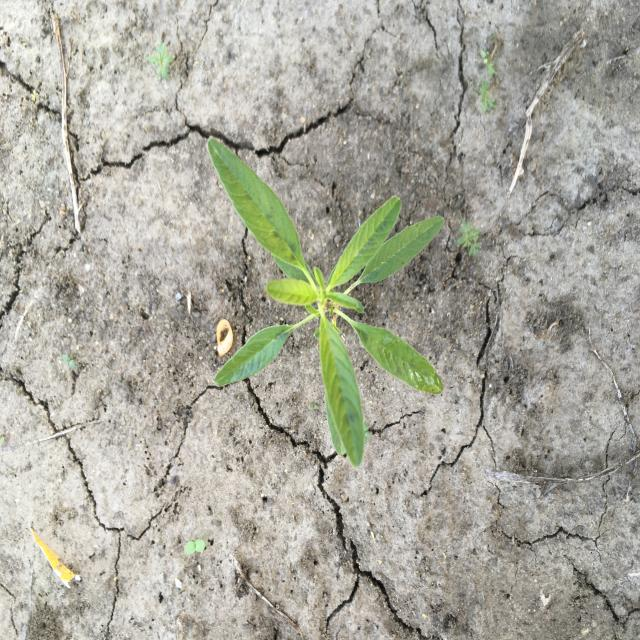Waterhemp: (206, 134, 447, 471)
